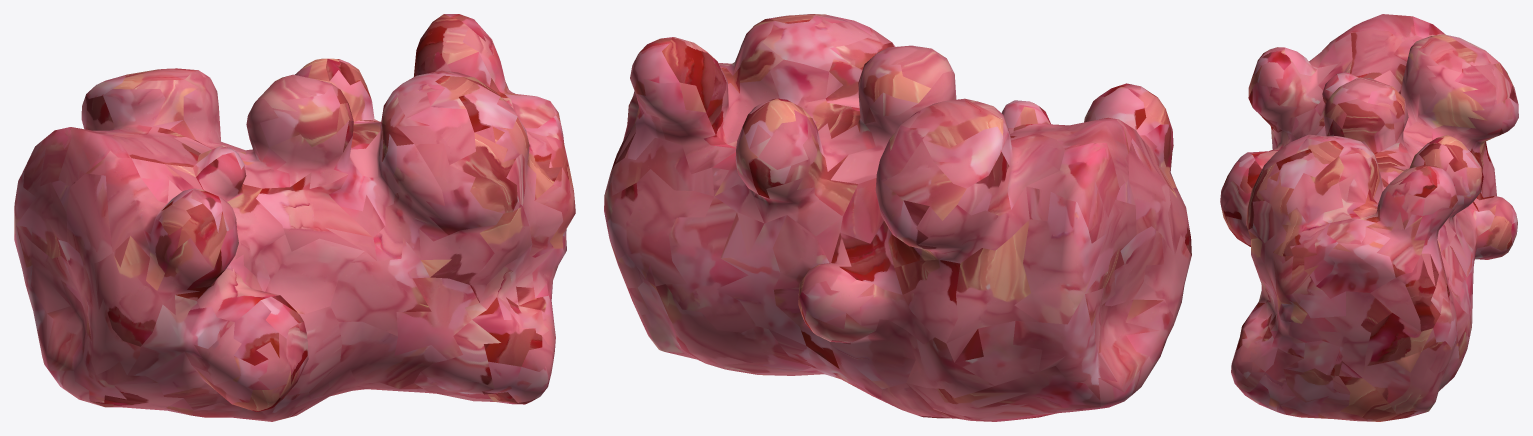
Rendered from Nodular.fbx.
3 renders of one model, left to right at view 1: azimuth 30°, elevation 25°; view 2: azimuth 150°, elevation 25°; view 3: azimuth 270°, elevation 25°, orthographic. The views are drawn at different scales.
Visible parts, largest first — view 1: Mesh_0; view 2: Mesh_0; view 3: Mesh_0.
Part boxes in pixels (box(x1,y1,x2,y2)): Mesh_0: box(14, 14, 575, 421); Mesh_0: box(604, 14, 1191, 421); Mesh_0: box(1220, 14, 1518, 421).
Size of the model in its own units: 1.91 by 1.26 by 1.25.
